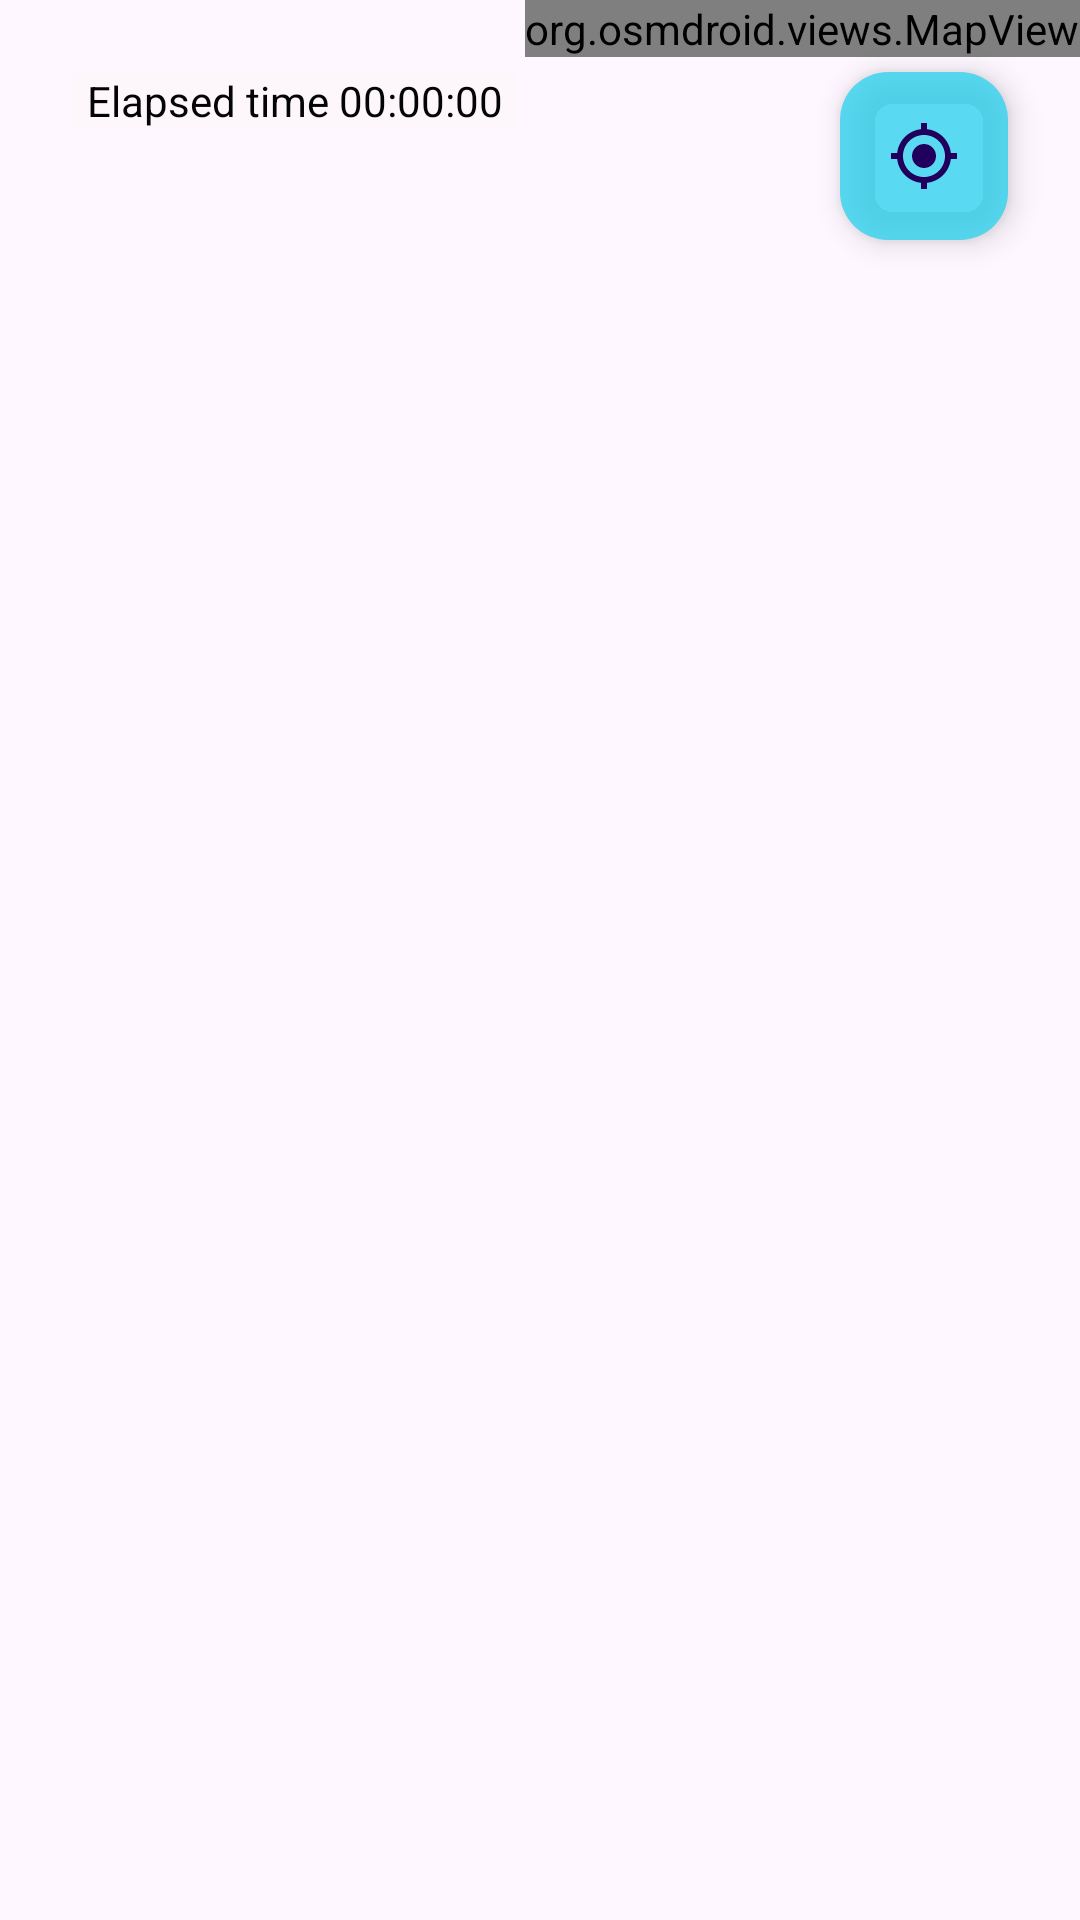

Locate icon controls on the screen. Image size 1080×1920, boxes as box(x1, y1, x2, y2).
Center of map: box(840, 72, 1008, 240)
